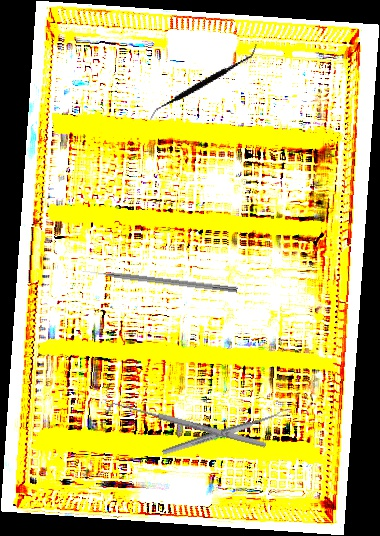Hook Surgical: (106, 398, 268, 455), (80, 266, 238, 294)
Spatula Surgical: (148, 16, 259, 148)
Surgical Spoon: (161, 408, 289, 457)
